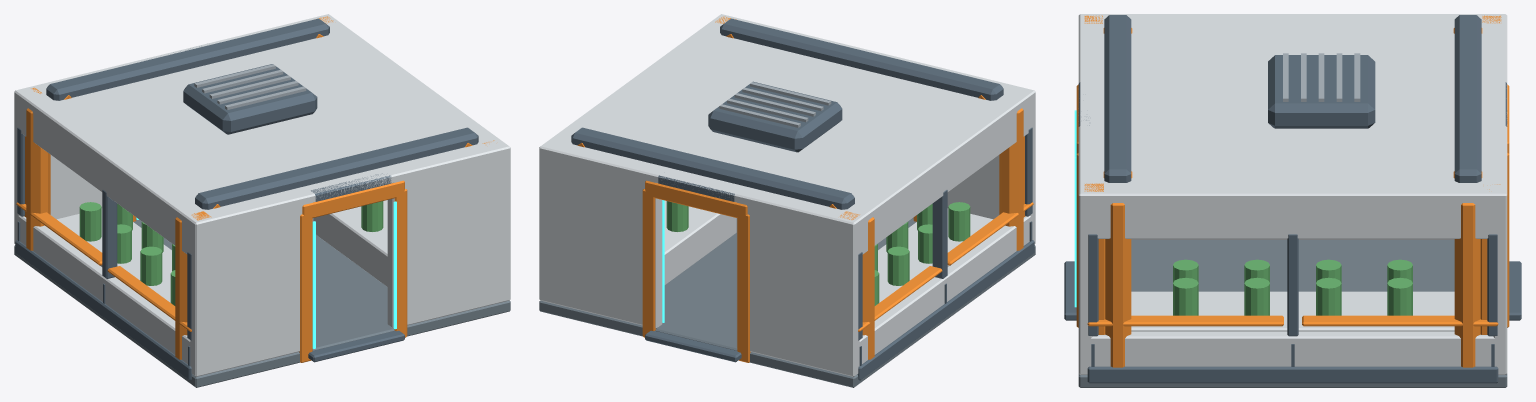
Rendered from room-GreenhouseRoom.fbx.
The picture shows the model from 3 angles, left to right: view 1: azimuth 30°, elevation 25°; view 2: azimuth 150°, elevation 25°; view 3: azimuth 270°, elevation 25°; orthographic projection. The views are drawn at different scales.
Visible parts, largest first — view 1: room-GreenhouseRoom_Roof.001, room-GreenhouseRoom_End panel.005, room-GreenhouseRoom_End panel.004, room-GreenhouseRoom_Deck.001, room-GreenhouseRoom_Window sill.002, room-GreenhouseRoom_Roof cross brace, room-GreenhouseRoom_Roof cross brace.001, room-GreenhouseRoom_Window head.002, room-GreenhouseRoom_Roof service pod, room-GreenhouseRoom_Growing bed.003, room-GreenhouseRoom_Lower armour band, room-GreenhouseRoom_End panel.006 (+24 smaller); view 2: room-GreenhouseRoom_Roof.001, room-GreenhouseRoom_End panel.007, room-GreenhouseRoom_End panel.006, room-GreenhouseRoom_Deck.001, room-GreenhouseRoom_Window sill.002, room-GreenhouseRoom_Roof cross brace.001, room-GreenhouseRoom_Roof cross brace, room-GreenhouseRoom_Window head.002, room-GreenhouseRoom_Roof service pod, room-GreenhouseRoom_Growing bed.003, room-GreenhouseRoom_Lower armour band, room-GreenhouseRoom_End panel.004 (+22 smaller); view 3: room-GreenhouseRoom_Roof.001, room-GreenhouseRoom_Deck.001, room-GreenhouseRoom_Window head.003, room-GreenhouseRoom_Window sill.003, room-GreenhouseRoom_Lower armour band.001, room-GreenhouseRoom_Growing bed.003, room-GreenhouseRoom_Roof service pod, room-GreenhouseRoom_Roof cross brace, room-GreenhouseRoom_Roof cross brace.001, room-GreenhouseRoom_Armoured corner post.001, room-GreenhouseRoom_Armoured corner post.003, room-GreenhouseRoom_Window lower trim.007 (+21 smaller).
Boxes of the visible parts, x1,y1,x2,y2 form: room-GreenhouseRoom_Roof.001: (14,14,510,229); room-GreenhouseRoom_End panel.005: (387,153,510,328); room-GreenhouseRoom_End panel.004: (190,202,313,376); room-GreenhouseRoom_Deck.001: (14,219,510,387); room-GreenhouseRoom_Window sill.002: (14,213,196,375); room-GreenhouseRoom_Roof cross brace: (195,127,478,209); room-GreenhouseRoom_Roof cross brace.001: (46,18,329,100); room-GreenhouseRoom_Window head.002: (14,98,204,259); room-GreenhouseRoom_Roof service pod: (183,64,317,134); room-GreenhouseRoom_Growing bed.003: (313,200,387,286); room-GreenhouseRoom_Lower armour band: (15,240,192,380); room-GreenhouseRoom_End panel.006: (14,128,102,243); room-GreenhouseRoom_Roof.001: (539,14,1035,230); room-GreenhouseRoom_End panel.007: (539,153,662,328); room-GreenhouseRoom_End panel.006: (736,202,859,376); room-GreenhouseRoom_Deck.001: (539,218,1035,387); room-GreenhouseRoom_Window sill.002: (853,213,1035,376); room-GreenhouseRoom_Roof cross brace.001: (571,127,854,209); room-GreenhouseRoom_Roof cross brace: (720,18,1003,100); room-GreenhouseRoom_Window head.002: (845,98,1035,259); room-GreenhouseRoom_Roof service pod: (708,81,842,152); room-GreenhouseRoom_Growing bed.003: (664,200,736,284); room-GreenhouseRoom_Lower armour band: (857,240,1034,380); room-GreenhouseRoom_End panel.004: (913,101,1035,219); room-GreenhouseRoom_Roof.001: (1078,14,1507,203); room-GreenhouseRoom_Deck.001: (1078,240,1507,387); room-GreenhouseRoom_Window head.003: (1078,202,1507,238); room-GreenhouseRoom_Window sill.003: (1078,331,1505,374); room-GreenhouseRoom_Lower armour band.001: (1087,366,1498,383); room-GreenhouseRoom_Growing bed.003: (1131,291,1454,331); room-GreenhouseRoom_Roof service pod: (1268,55,1375,128); room-GreenhouseRoom_Roof cross brace: (1104,15,1131,182); room-GreenhouseRoom_Roof cross brace.001: (1454,15,1481,182); room-GreenhouseRoom_Armoured corner post.001: (1105,203,1131,367); room-GreenhouseRoom_Armoured corner post.003: (1454,203,1480,367); room-GreenhouseRoom_Window lower trim.007: (1302,315,1498,326).
Size of the model in its own units: 610 by 343 by 640.
